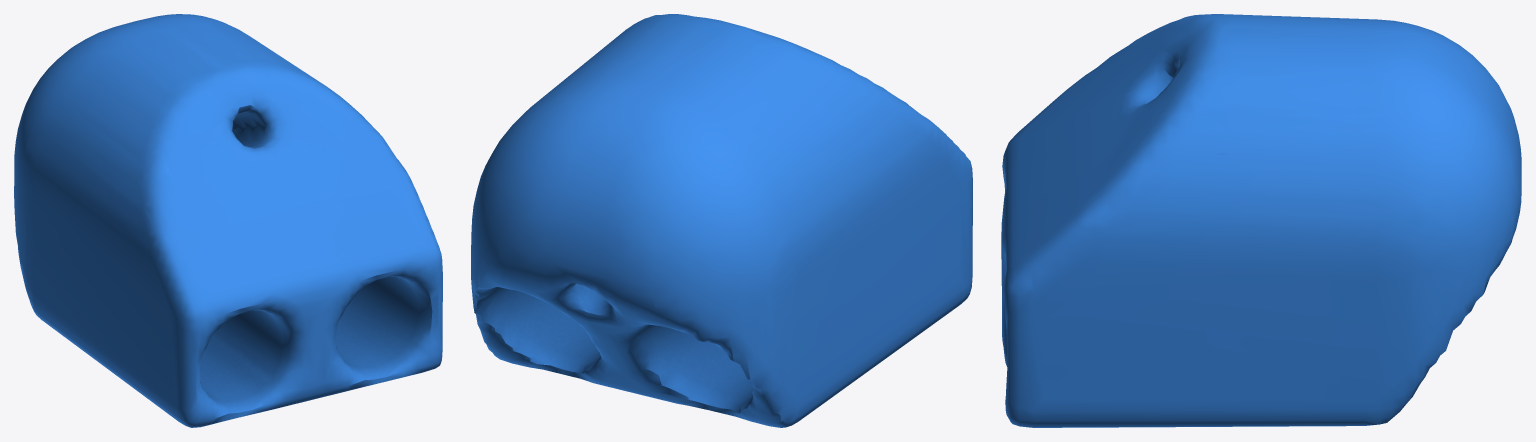
Rendered from left_finger4_upper.obj.
The picture shows the model from 3 angles, left to right: view 1: azimuth 30°, elevation 25°; view 2: azimuth 150°, elevation 25°; view 3: azimuth 270°, elevation 25°; orthographic projection. The views are drawn at different scales.
Visible parts, largest first — view 1: left_finger4_upper; view 2: left_finger4_upper; view 3: left_finger4_upper.
Boxes of the visible parts, x1,y1,x2,y2 form: left_finger4_upper: (14, 14, 442, 427); left_finger4_upper: (471, 14, 972, 427); left_finger4_upper: (1001, 14, 1521, 427).
Bounding box in the file's own units: 0.0102 × 0.0101 × 0.0146.
Materials: 1 (1 with a texture image).
